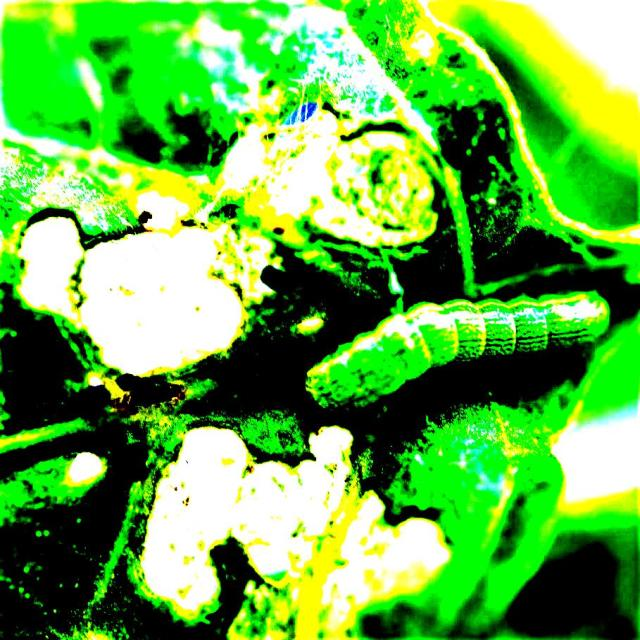Armyworm: (292, 275, 640, 445)
Armyworm_damage: (11, 187, 307, 423), (141, 410, 416, 640), (228, 84, 499, 256)
